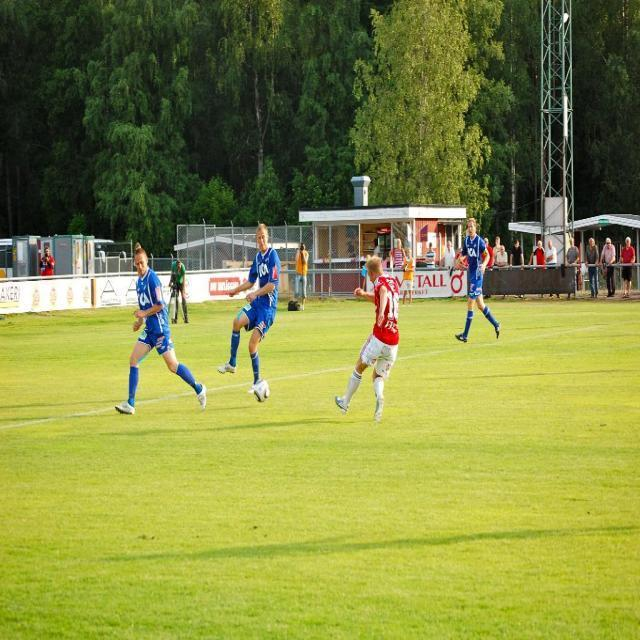football: (242, 372, 269, 403)
